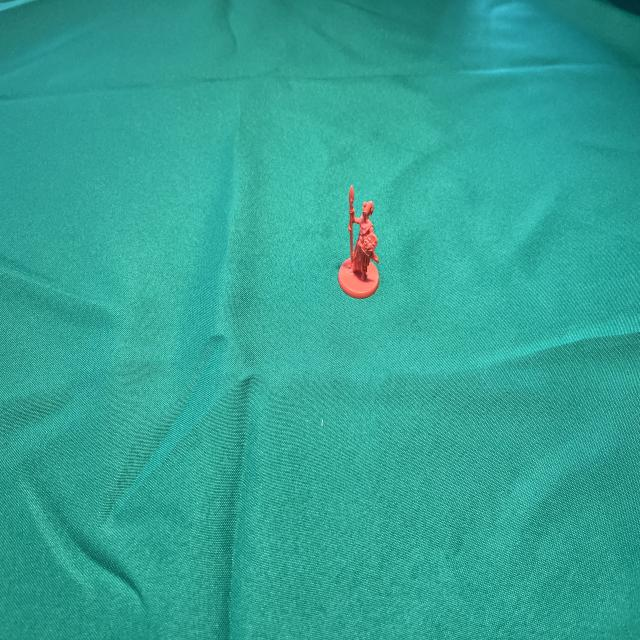amon_follower: (339, 187, 379, 298)
